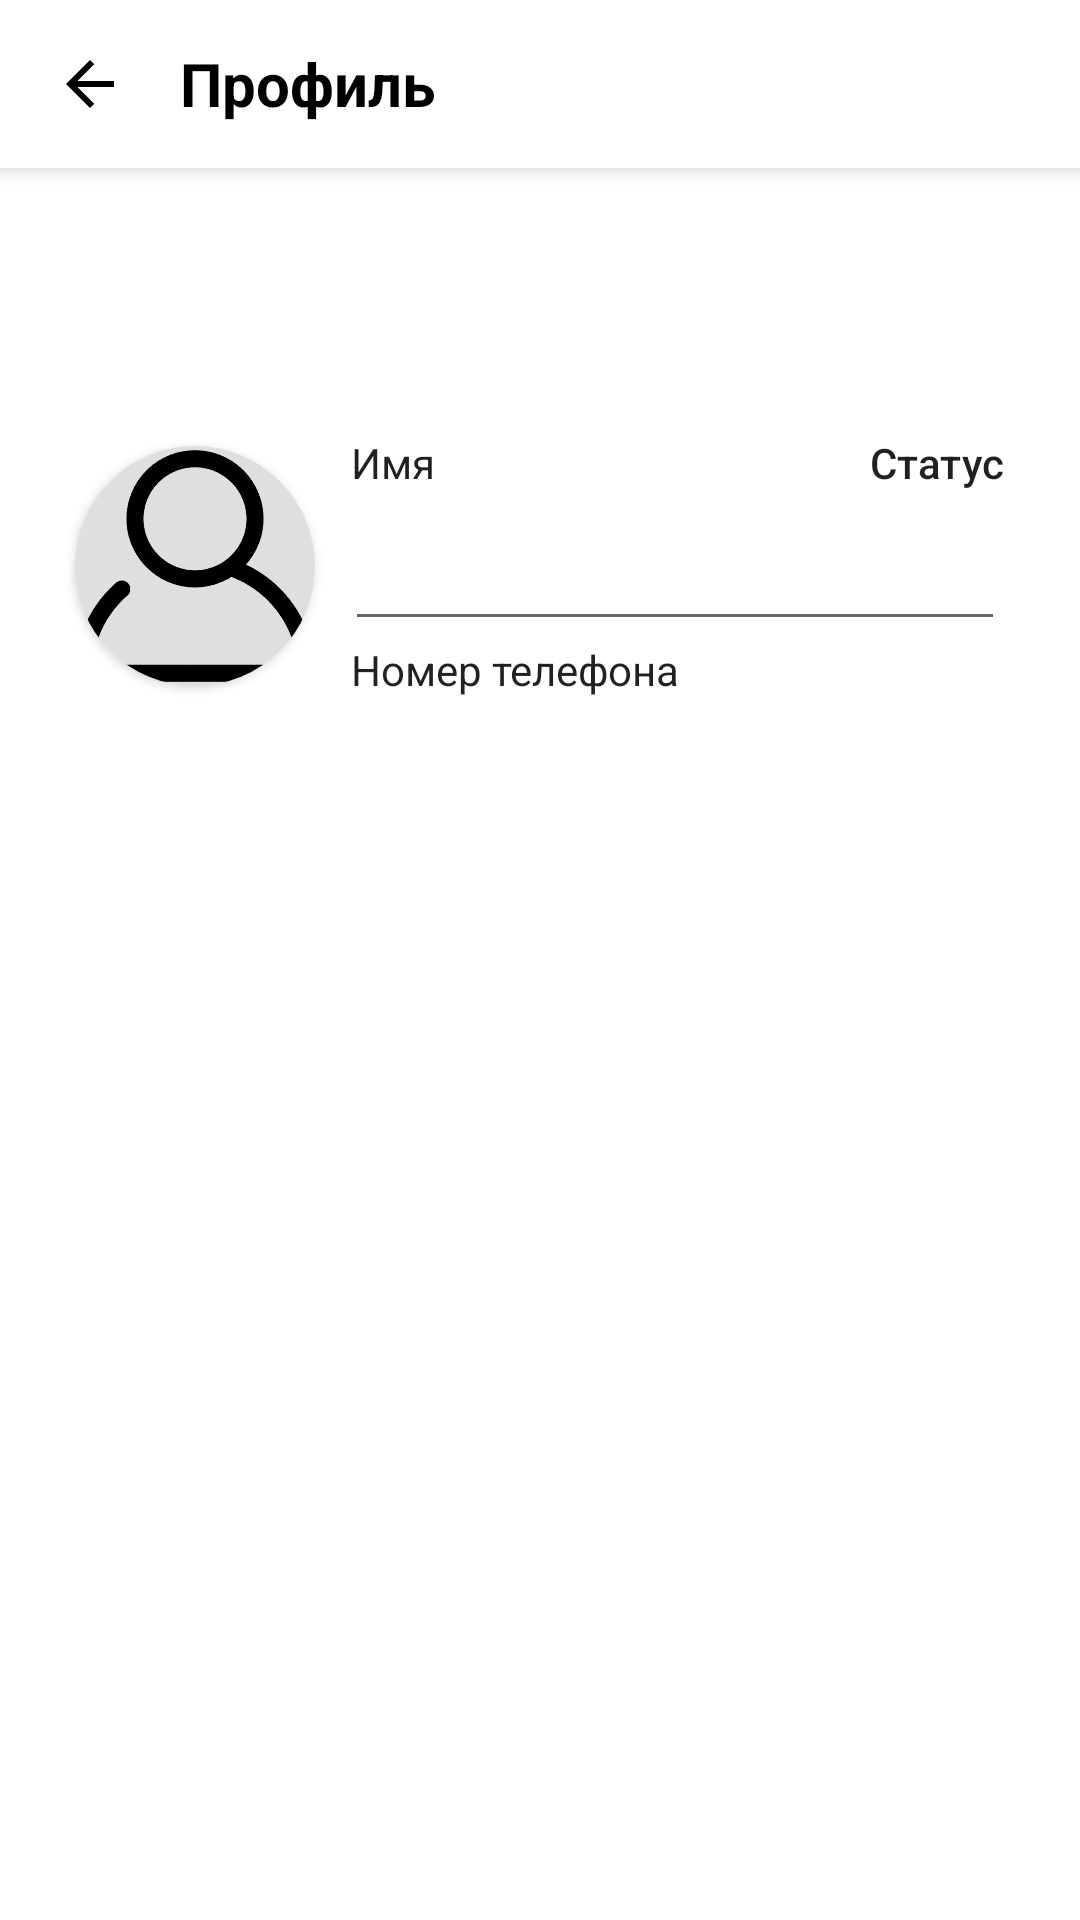

Screen size 1080*1920. Icon name, then its center in pixels as [x,y]:
arrow back: [90,84]
defprof: [195,566]
